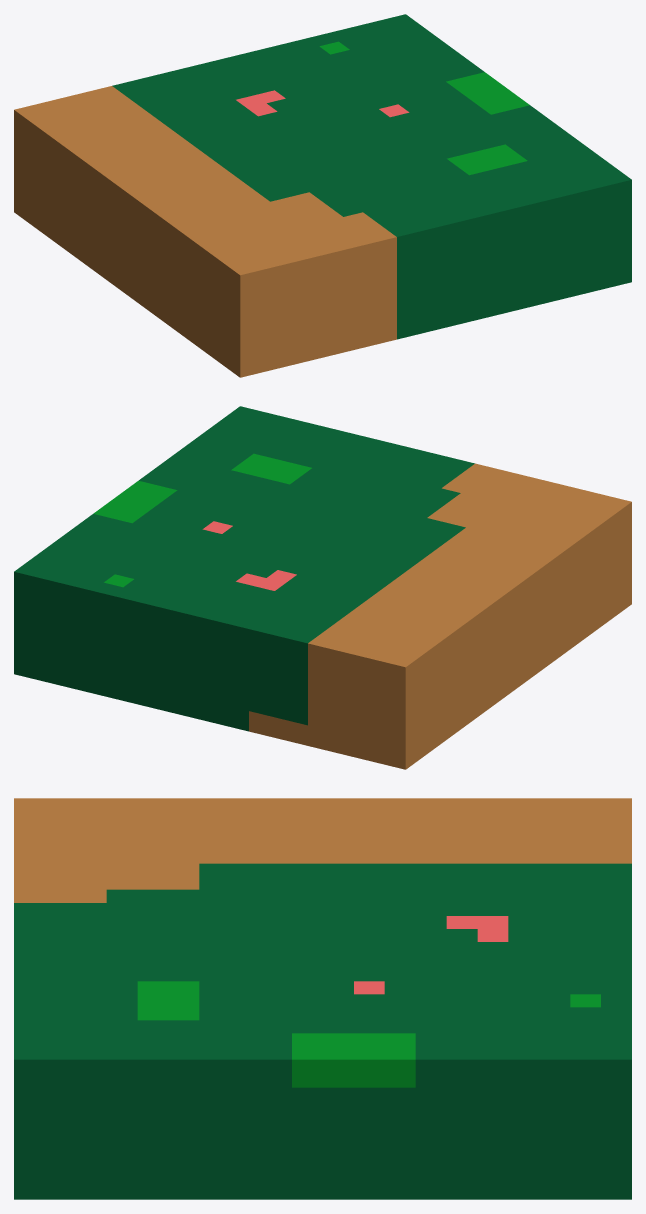
The model's file is Tile4.obj.
3 views of the same model, one above another, from view 1: azimuth 30°, elevation 25°; view 2: azimuth 150°, elevation 25°; view 3: azimuth 270°, elevation 25° (orthographic). The views are drawn at different scales.
Bounding box in the file's own units: 2 × 0.5 × 2.
Materials: 1 (1 with a texture image).
